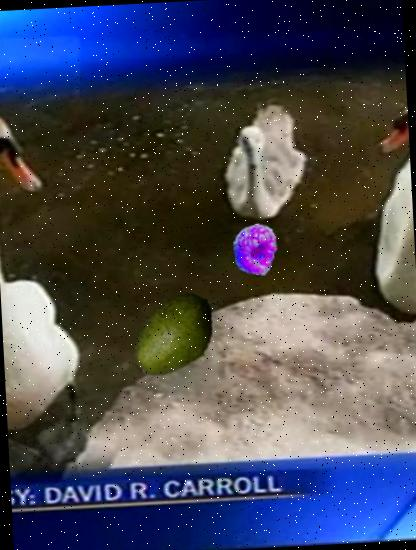Avocado: (127, 287, 229, 389)
Raspberry: (229, 222, 284, 277)
